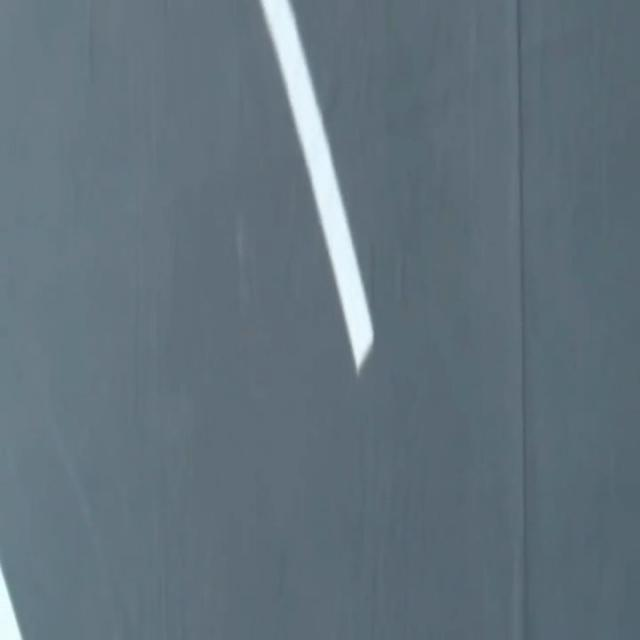center: (260, 0, 372, 373)
left: (0, 566, 21, 639)
